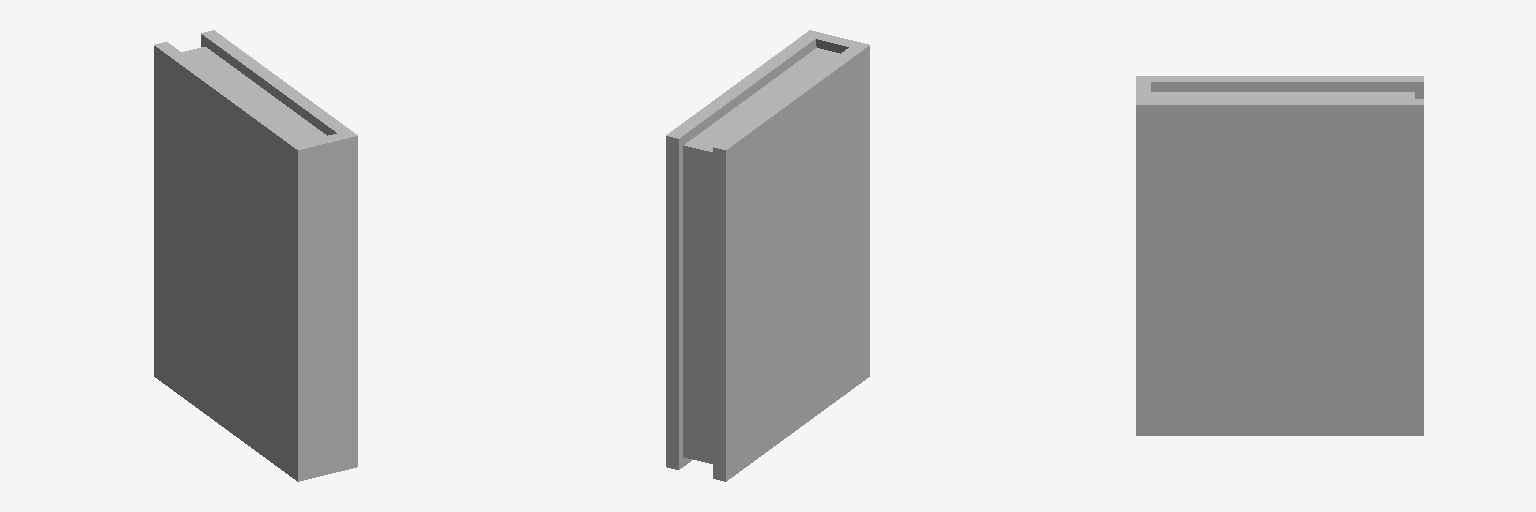
The model's file is Book_Big.obj.
3 views of the same model, side by side, from view 1: azimuth 30°, elevation 25°; view 2: azimuth 150°, elevation 25°; view 3: azimuth 270°, elevation 25° (orthographic).
Parts seen in each view (by area): view 1: Book_Big; view 2: Book_Big; view 3: Book_Big.
Part boxes in pixels (x1,y1,x2,y2): Book_Big: (154, 30, 357, 481); Book_Big: (666, 30, 869, 481); Book_Big: (1136, 76, 1423, 435).
Size of the model in its own units: 0.0593 by 0.3106 by 0.2451.